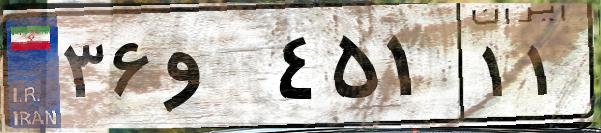1: (385, 28, 445, 110), (475, 38, 525, 113), (525, 38, 570, 115)
3: (57, 26, 110, 100)
4: (270, 28, 330, 110)
5: (330, 28, 385, 110)
6: (110, 28, 158, 98)
و: (158, 20, 270, 120)
